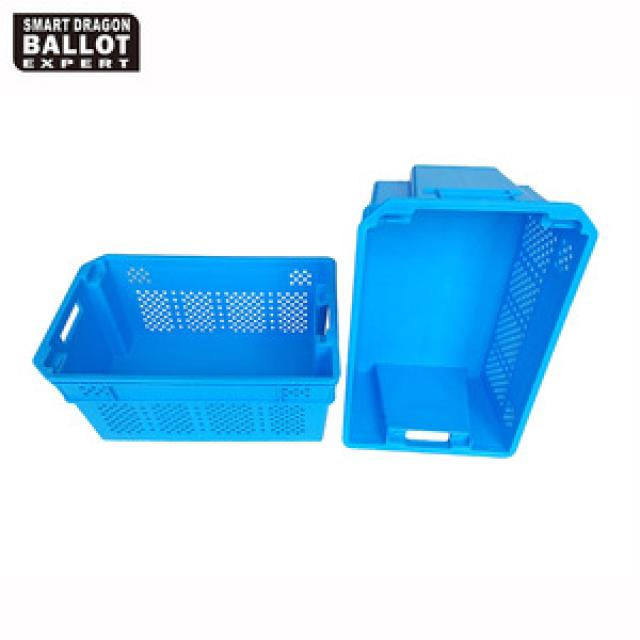basket: (283, 130, 607, 503), (34, 255, 342, 442)
